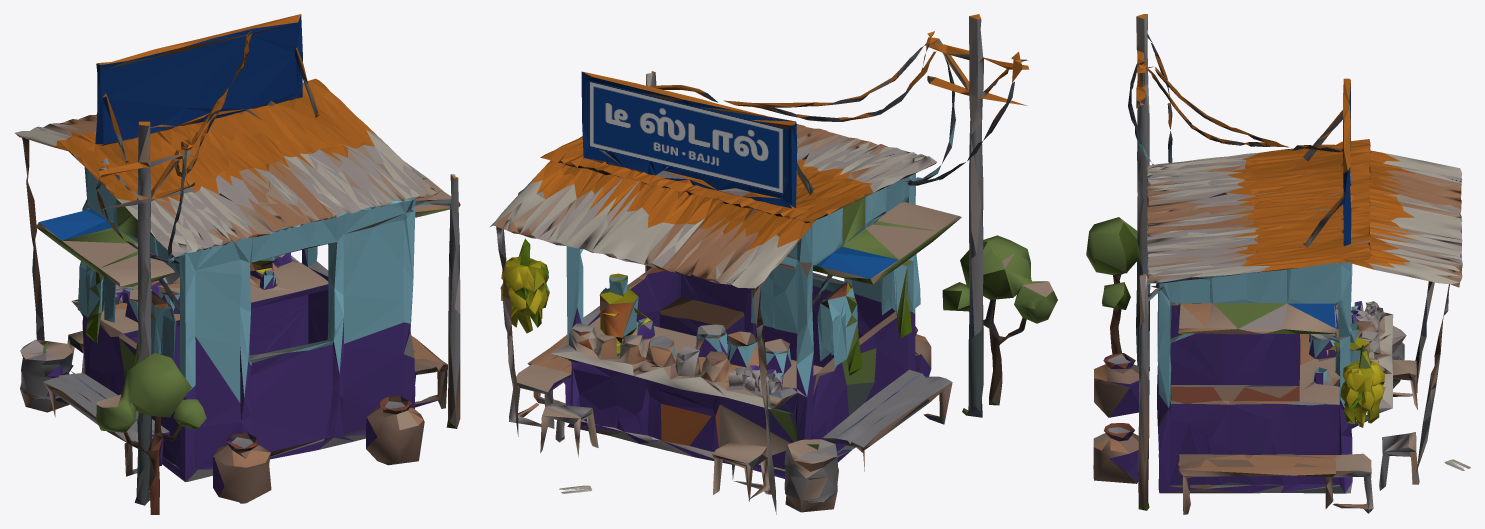
Rendered from tea_stall_d.glb.
The picture shows the model from 3 angles, left to right: view 1: azimuth 30°, elevation 25°; view 2: azimuth 150°, elevation 25°; view 3: azimuth 270°, elevation 25°; orthographic projection. The views are drawn at different scales.
Parts seen in each view (by area): view 1: stall; view 2: stall, sign; view 3: stall.
Boxes of the visible parts, <box> form: stall: <box>15,14,460,514</box>; stall: <box>490,14,1057,514</box>; sign: <box>588,80,783,194</box>; stall: <box>1086,14,1470,514</box>.
Size of the model in its own units: 3.83 by 3.51 by 3.46.
Materials: 2 (1 with a texture image).
